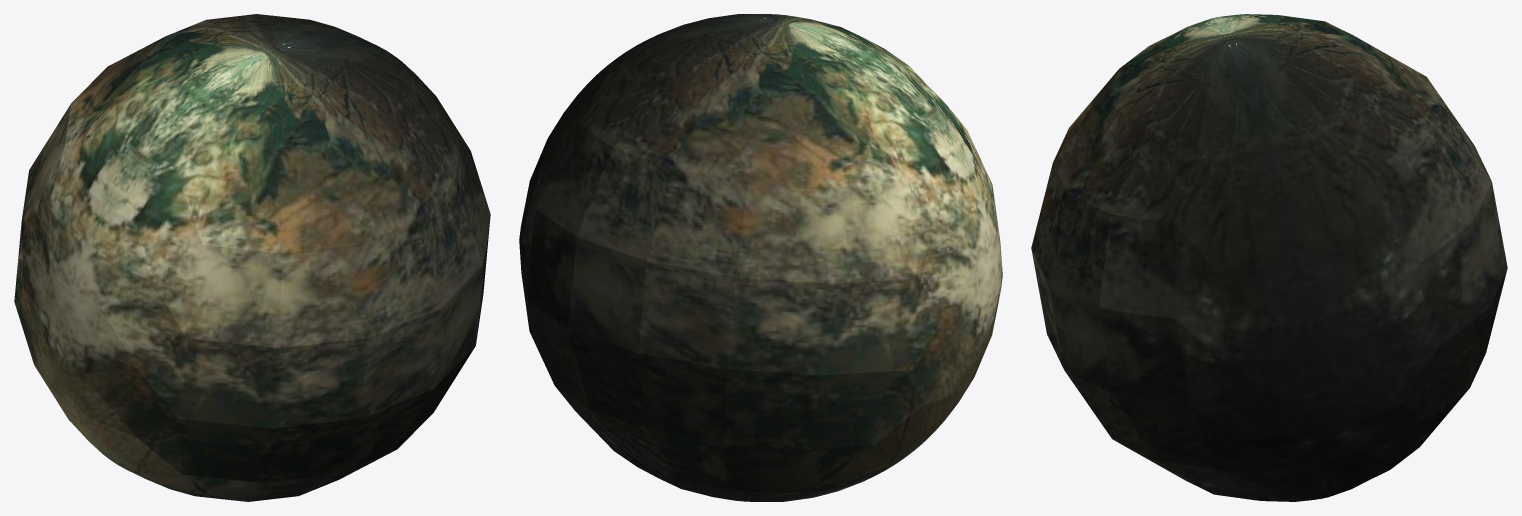
The model's file is planet_earth.glb.
3 views of the same model, side by side, from view 1: azimuth 30°, elevation 25°; view 2: azimuth 150°, elevation 25°; view 3: azimuth 270°, elevation 25° (orthographic).
Visible parts, largest first — view 1: Sphere.003; view 2: Sphere.003; view 3: Sphere.003.
Boxes of the visible parts, x1,y1,x2,y2 form: Sphere.003: [14, 14, 490, 501]; Sphere.003: [519, 14, 1002, 501]; Sphere.003: [1031, 14, 1507, 501].
Size of the model in its own units: 1.98 by 2 by 1.94.
Materials: 1 (1 with a texture image).
